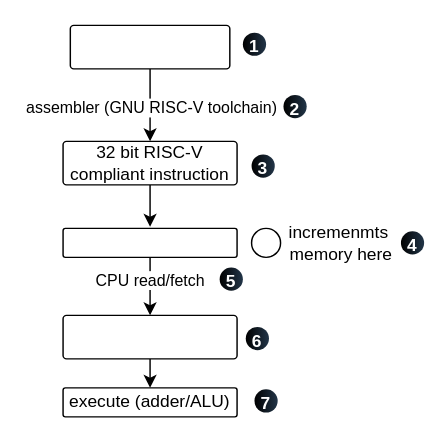
Some shapes in this 448 by 442 pixel diagram are drawn without their labels. The shapes that lost their labels are listed below. From the top down, each one's centre as x and y in pixels, then its label:
At point 149,46: "some instruction: add x3, x1, x2".
At point 149,242: "memory".
At point 265,242: "pc".
At point 149,336: "decode using RISC-V rules".
